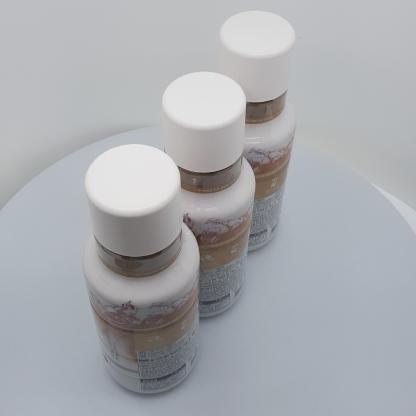----------1-1L: (82, 144, 200, 394), (159, 71, 255, 317), (215, 10, 297, 251)
